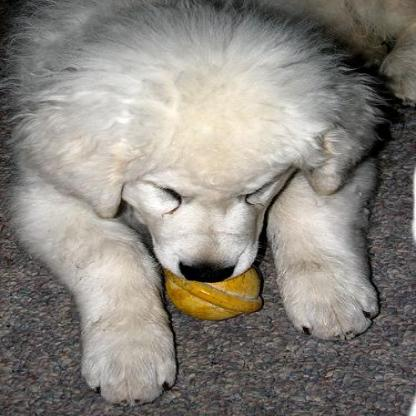kuvasz: (0, 0, 413, 408)
